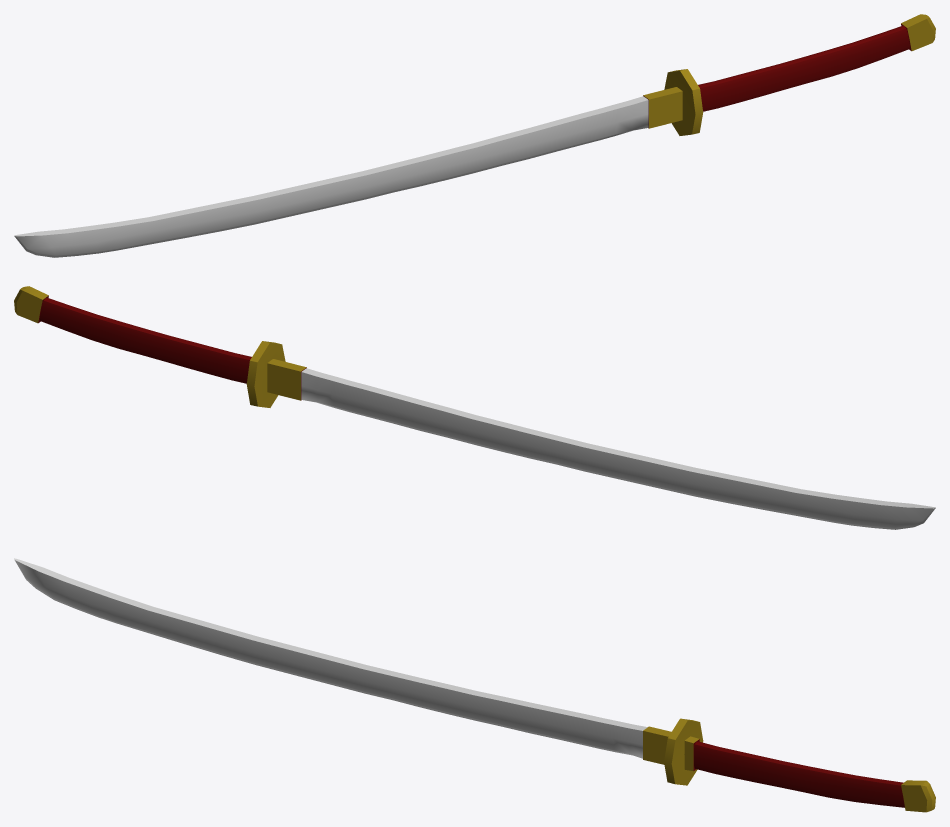
File: EspadaConColor.fbx
3 views of the same model, one above another, from view 1: azimuth 30°, elevation 25°; view 2: azimuth 150°, elevation 25°; view 3: azimuth 330°, elevation 25° (orthographic).
Visible parts, largest first — view 1: EspadaMirai; view 2: EspadaMirai; view 3: EspadaMirai.
Part boxes in pixels (x1,y1,x2,y2): EspadaMirai: (14,14,935,257); EspadaMirai: (14,286,935,529); EspadaMirai: (14,558,935,812).
Size of the model in its own units: 1.94 by 0.1313 by 0.1151.
